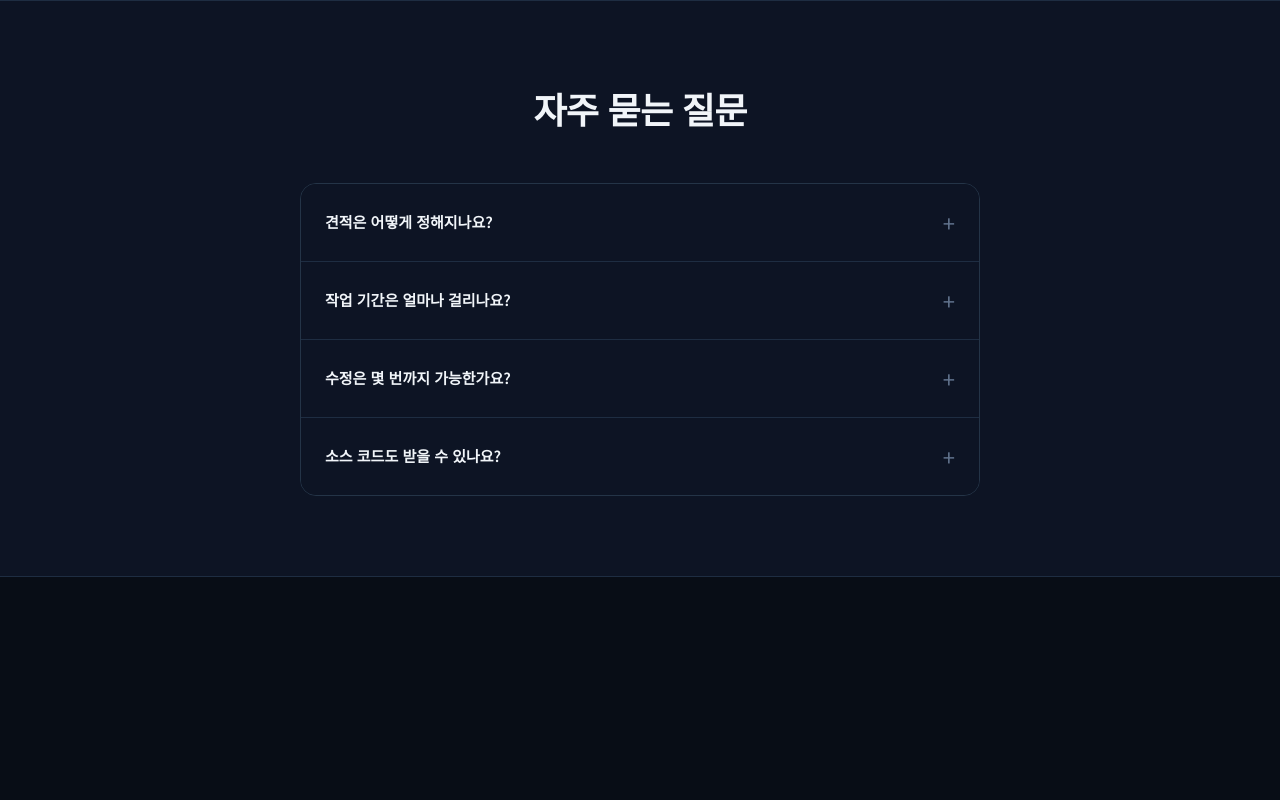
it: FaqSection › 질문 클릭 시 답변이 토글된다
Expected: the text "작업 범위, 데이터 양, 예외처리 방식에 따라 달라집니다. 이메일로 문의 주시면 대략적인 범위를 먼저 안내해드려요." is not shown
Click the text "견적은 어떻게 정해지나요?": (409, 223) [325,211,493,234]
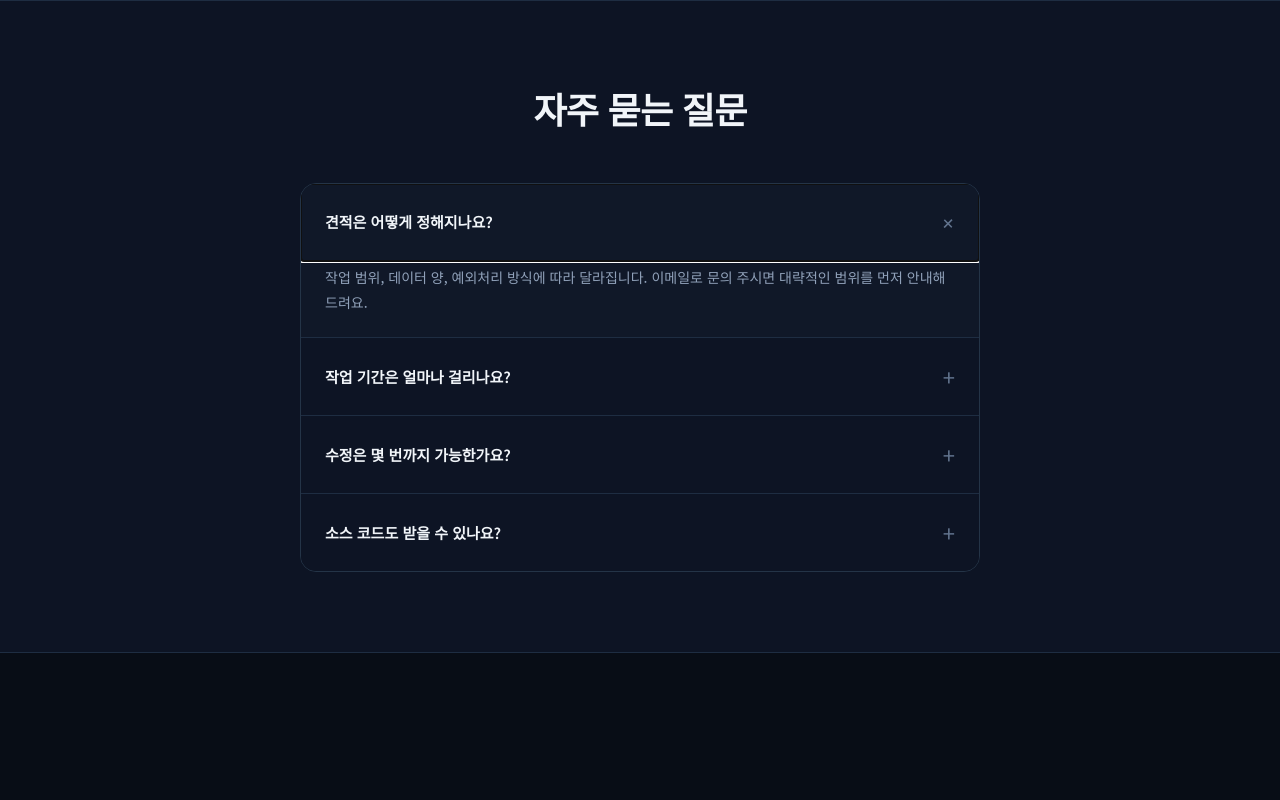
Result: the text "작업 범위, 데이터 양, 예외처리 방식에 따라 달라집니다. 이메일로 문의 주시면 대략적인 범위를 먼저 안내해드려요." is shown at [325,265,955,315]
Click the text "견적은 어떻게 정해지나요?": (409, 223) [325,211,493,234]
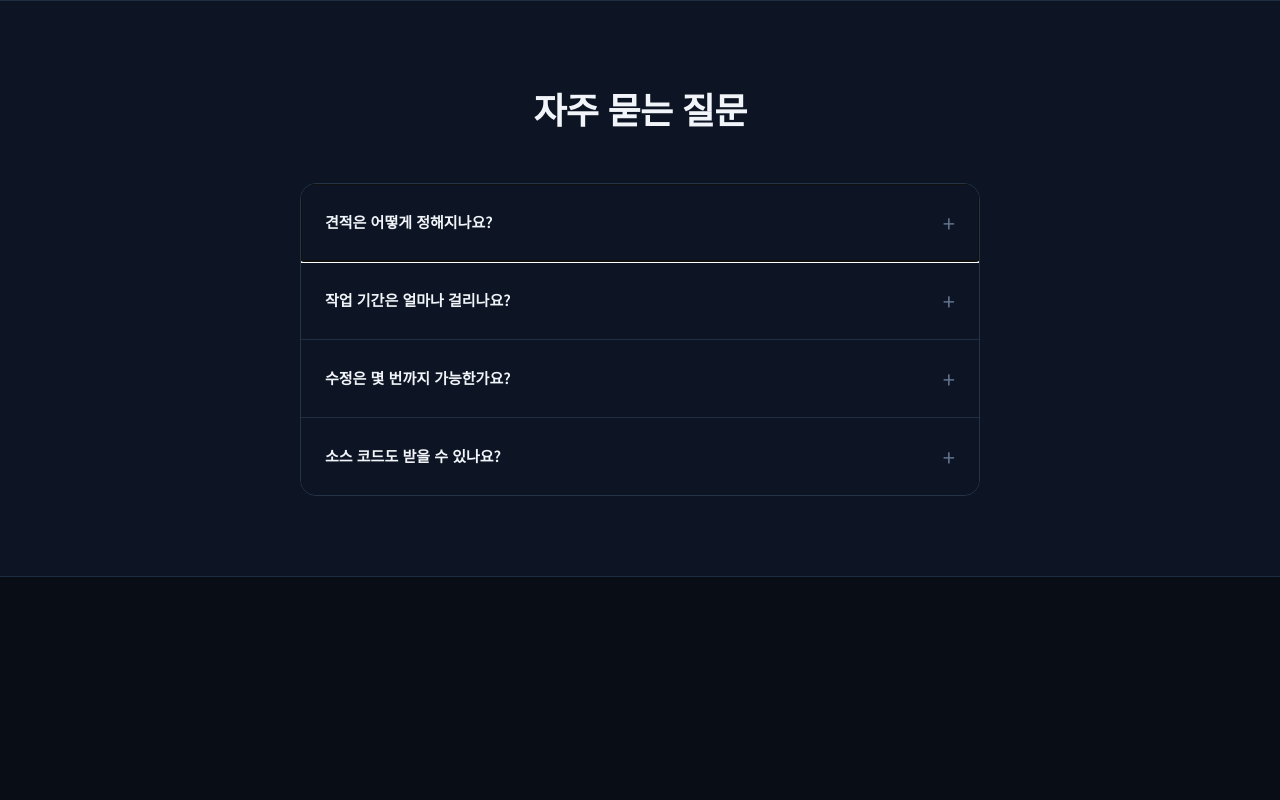
Result: the text "작업 범위, 데이터 양, 예외처리 방식에 따라 달라집니다. 이메일로 문의 주시면 대략적인 범위를 먼저 안내해드려요." is gone
